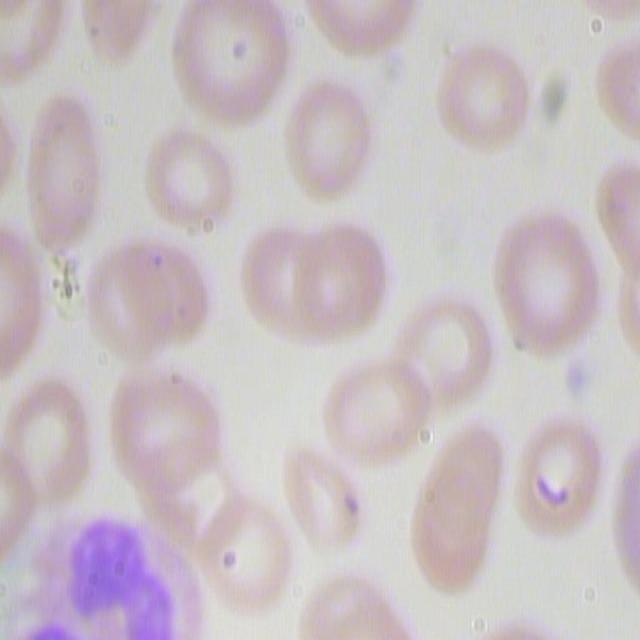RBC: (122, 351, 242, 549), (239, 208, 390, 353), (487, 207, 608, 362), (87, 226, 214, 355), (167, 0, 294, 128), (321, 350, 435, 477), (500, 414, 610, 542), (415, 403, 490, 584), (24, 101, 104, 268), (390, 287, 493, 408), (280, 70, 376, 199), (434, 37, 538, 154), (4, 374, 96, 502), (195, 500, 291, 620), (142, 123, 240, 238), (587, 150, 640, 344), (7, 225, 76, 373), (286, 443, 370, 561), (284, 572, 412, 638), (298, 0, 420, 57), (593, 20, 640, 141), (0, 0, 66, 77), (94, 3, 170, 69), (0, 436, 34, 573)
WBC: (34, 520, 236, 640)
platelets: (558, 344, 602, 412)
